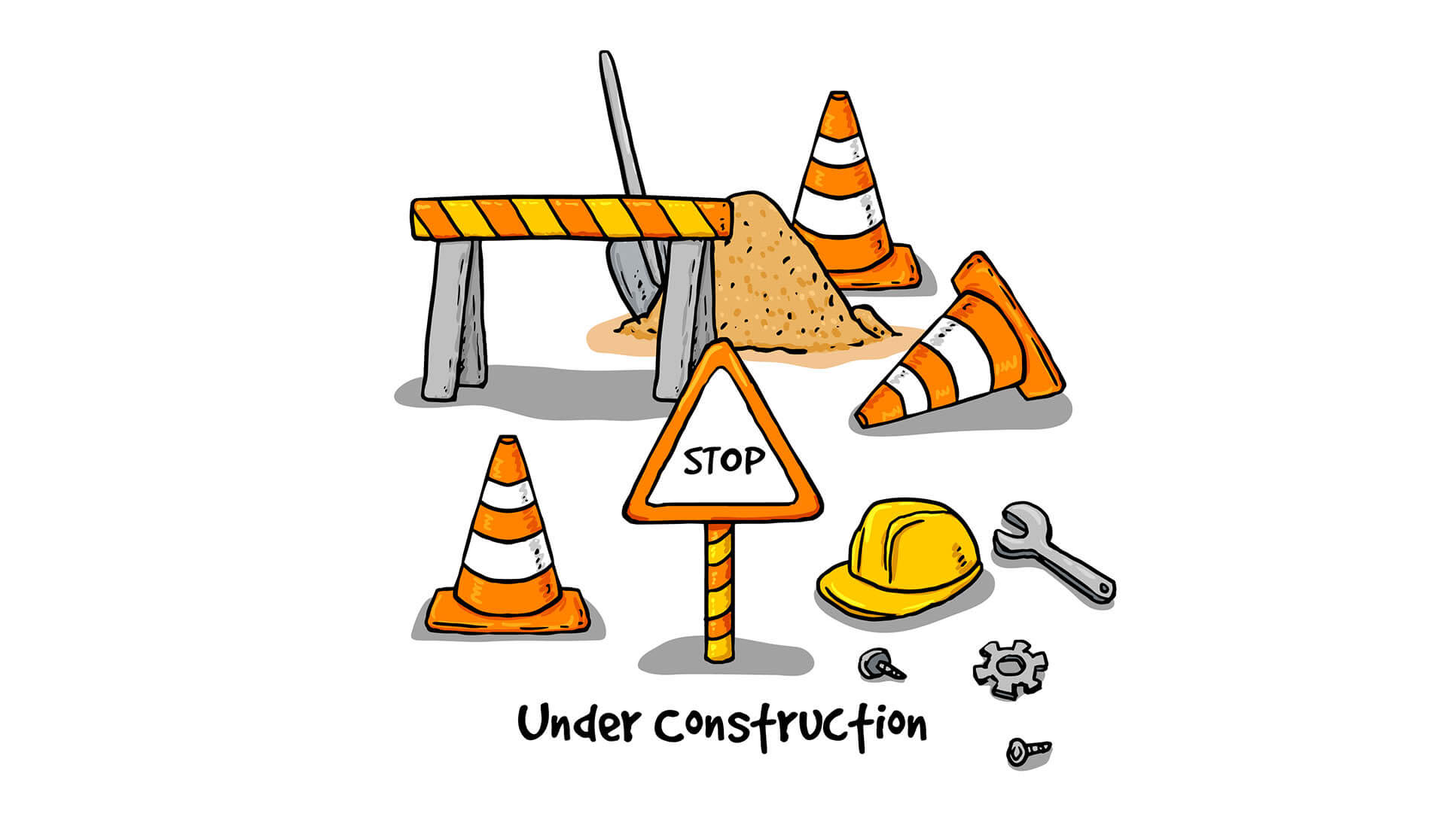Road_cone: (837, 250, 1062, 458), (404, 432, 594, 648), (765, 87, 927, 292)
